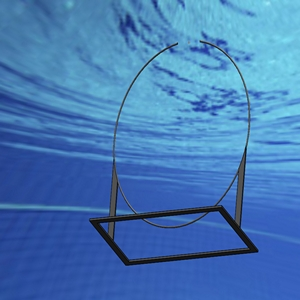circle: (93, 39, 255, 266)
